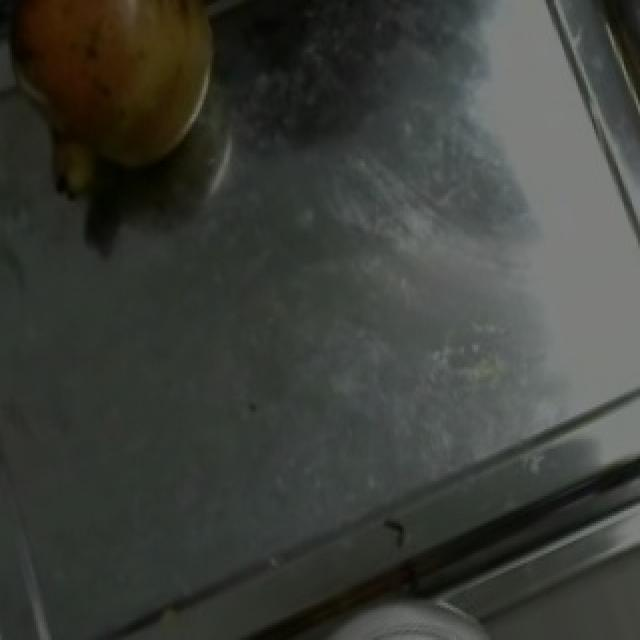fruit: (0, 0, 248, 198)
